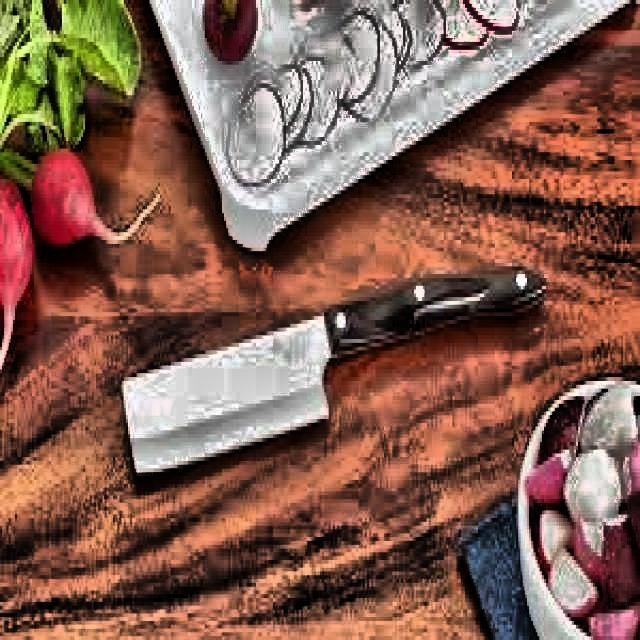knife: (122, 262, 547, 490)
